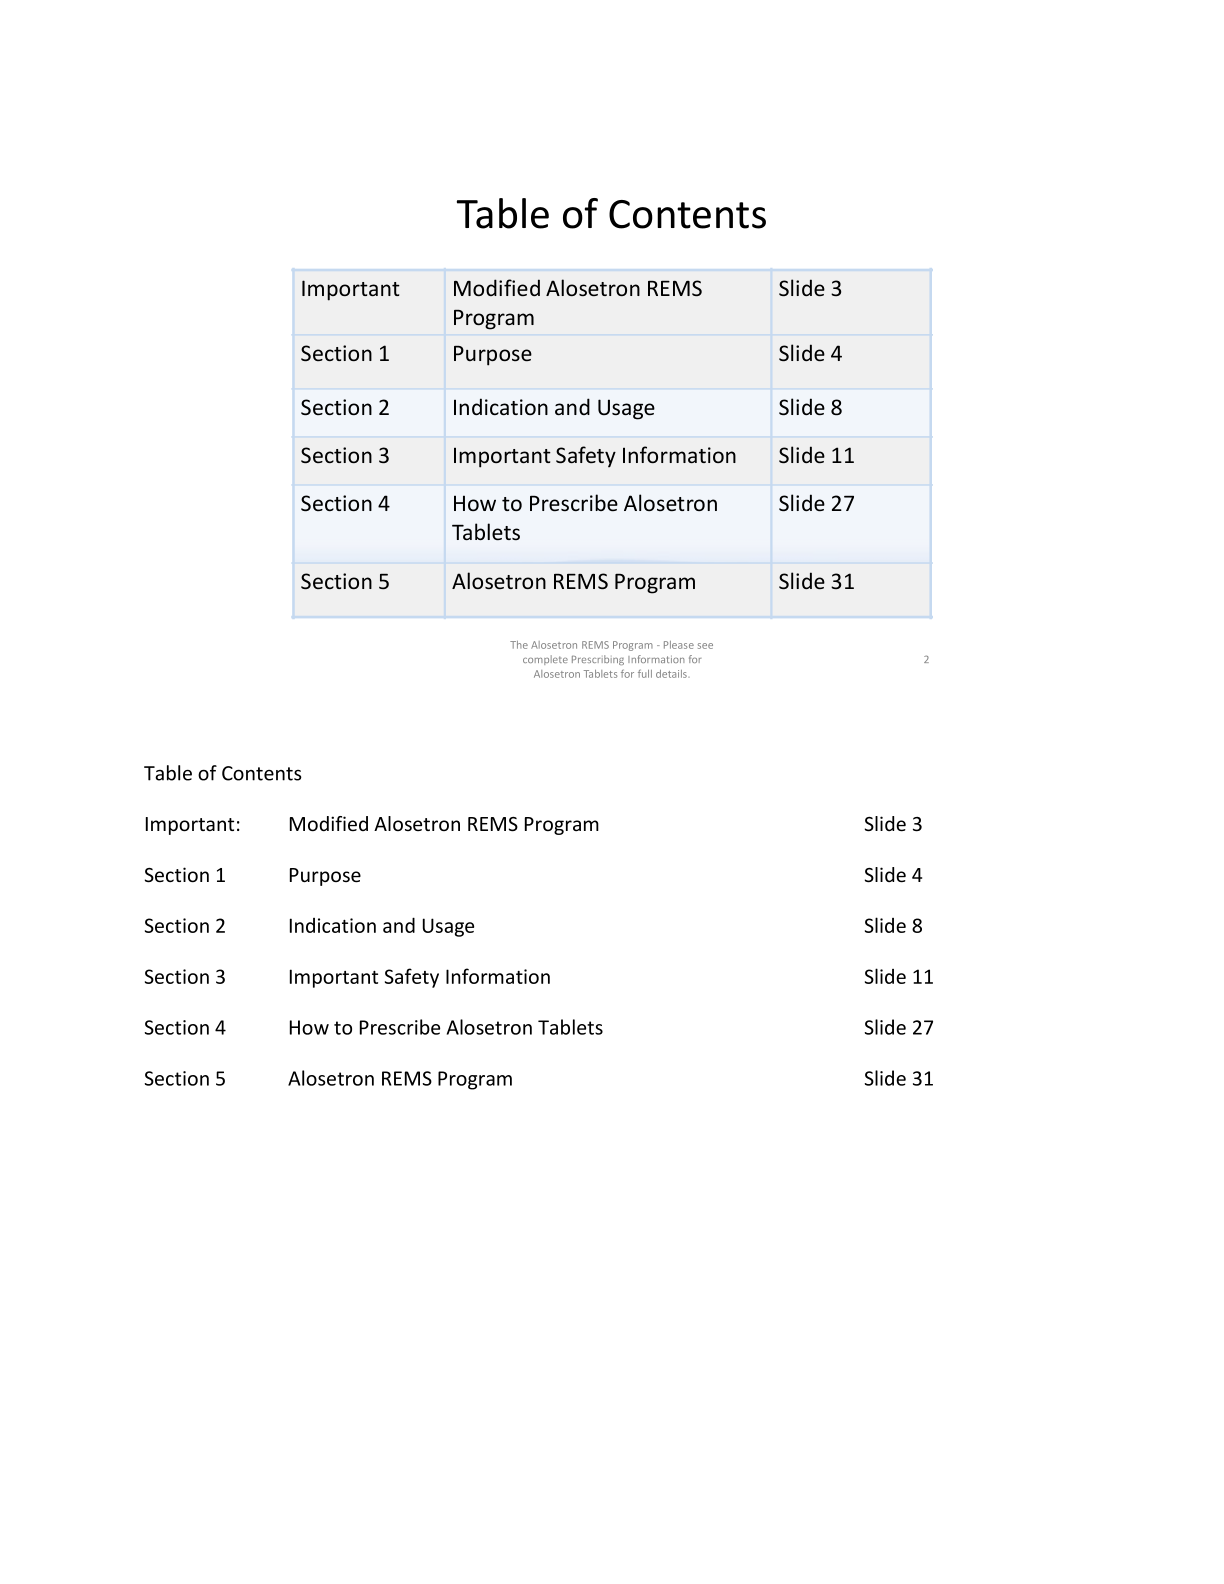full_lined: (291, 267, 933, 616)
nolines: (141, 811, 936, 1090)
